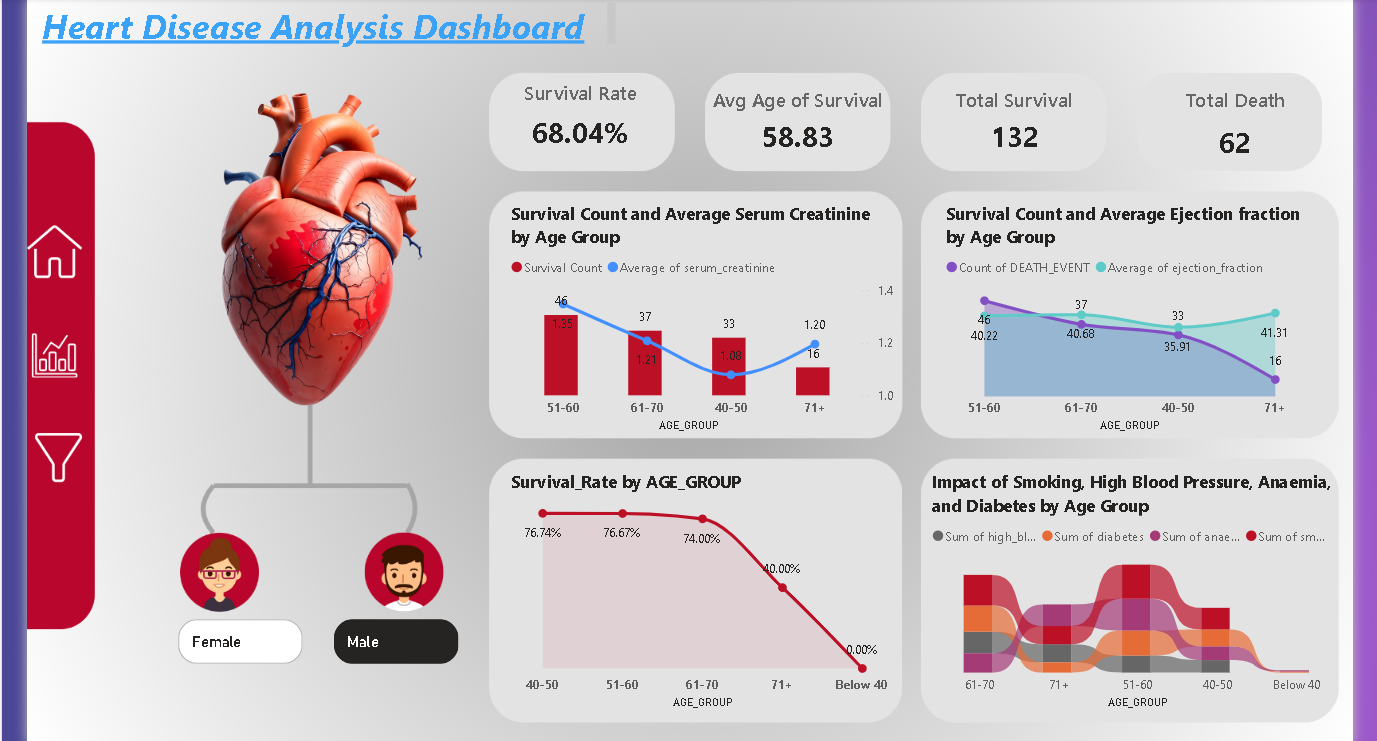

Layout of this report page (visuals, bound fields, positions):
{"tool":"powerbi","page":{"name":"Page 1","canvas":[1280,720],"ordinal":0},"visuals":[{"type":"textbox","box":[9.7,0,563.4,59.1],"z":0},{"type":"card","title":"Survival Rate","fields":{"Values":["heart_Disease_clinical_records_.Survival_Rate","select"]},"box":[458.4,78.4,150.8,80.8],"z":1000},{"type":"card","title":"Avg Age of Survival","fields":{"Values":["heart_Disease_clinical_records_.Average_Age_Survival"]},"box":[652.5,86.2,183.8,73.8],"z":2000},{"type":"card","title":"Total Survival","fields":{"Values":["heart_Disease_clinical_records_.Total_Surviour"]},"box":[857.5,86.2,191.2,73.8],"z":3000},{"type":"card","title":"Total Death","fields":{"Values":["heart_Disease_clinical_records_.Total_Death"]},"box":[1065,86.2,202.5,85],"z":4000},{"type":"lineClusteredColumnComboChart","title":"Survival Count and Average Serum Creatinine by Age Group","fields":{"Category":["heart_Disease_clinical_records_.AGE_GROUP"],"Y":["CountNonNull(heart_Disease_clinical_records_.DEATH_EVENT)"],"Y2":["Avg(heart_Disease_clinical_records_.serum_creatinine)"]},"box":[462.1,195.4,381.2,228],"z":5000},{"type":"areaChart","title":"Survival Count and Average Ejection fraction by Age Group","fields":{"Category":["heart_Disease_clinical_records_.AGE_GROUP"],"Y":["CountNonNull(heart_Disease_clinical_records_.DEATH_EVENT)","Avg(heart_Disease_clinical_records_.ejection_fraction)"]},"box":[881.9,195.4,365.6,228],"z":6000},{"type":"lineChart","fields":{"Category":["heart_Disease_clinical_records_.AGE_GROUP"],"Y":["heart_Disease_clinical_records_.Survival_Rate"]},"box":[462.1,454.8,381.2,236.5],"z":7000},{"type":"ribbonChart","title":"Impact of Smoking, High Blood Pressure, Anaemia, and Diabetes by Age Group","fields":{"Category":["heart_Disease_clinical_records_.AGE_GROUP"],"Y":["Sum(heart_Disease_clinical_records_.high_blood_pressure)","Sum(heart_Disease_clinical_records_.diabetes)","Sum(heart_Disease_clinical_records_.anaemia)","Sum(heart_Disease_clinical_records_.smoking)"]},"box":[868.8,455,407.5,236.2],"z":8000},{"type":"advancedSlicerVisual","fields":{"Values":["heart_Disease_clinical_records_.Gender"]},"box":[141.2,595,281.2,53.8],"z":9000}]}

Visuals, with their boxes on the page's 1280x720 design canvas (x1, y1, x2, y2). These are canvas units, not pixel positions in the 1377x741 screenshot, which may show the page scaled, cropped or inside an application window:
textbox: bbox=[10, 0, 573, 59]
"Survival Rate" card: bbox=[458, 78, 609, 159]
"Avg Age of Survival" card: bbox=[652, 86, 836, 160]
"Total Survival" card: bbox=[858, 86, 1049, 160]
"Total Death" card: bbox=[1065, 86, 1268, 171]
"Survival Count and Average Serum Creatinine by Age Group" lineClusteredColumnComboChart: bbox=[462, 195, 843, 423]
"Survival Count and Average Ejection fraction by Age Group" areaChart: bbox=[882, 195, 1248, 423]
lineChart - heart_Disease_clinical_records_.AGE_GROUP x heart_Disease_clinical_records_.Survival_Rate: bbox=[462, 455, 843, 691]
"Impact of Smoking, High Blood Pressure, Anaemia, and Diabetes by Age Group" ribbonChart: bbox=[869, 455, 1276, 691]
advancedSlicerVisual - heart_Disease_clinical_records_.Gender: bbox=[141, 595, 422, 649]
